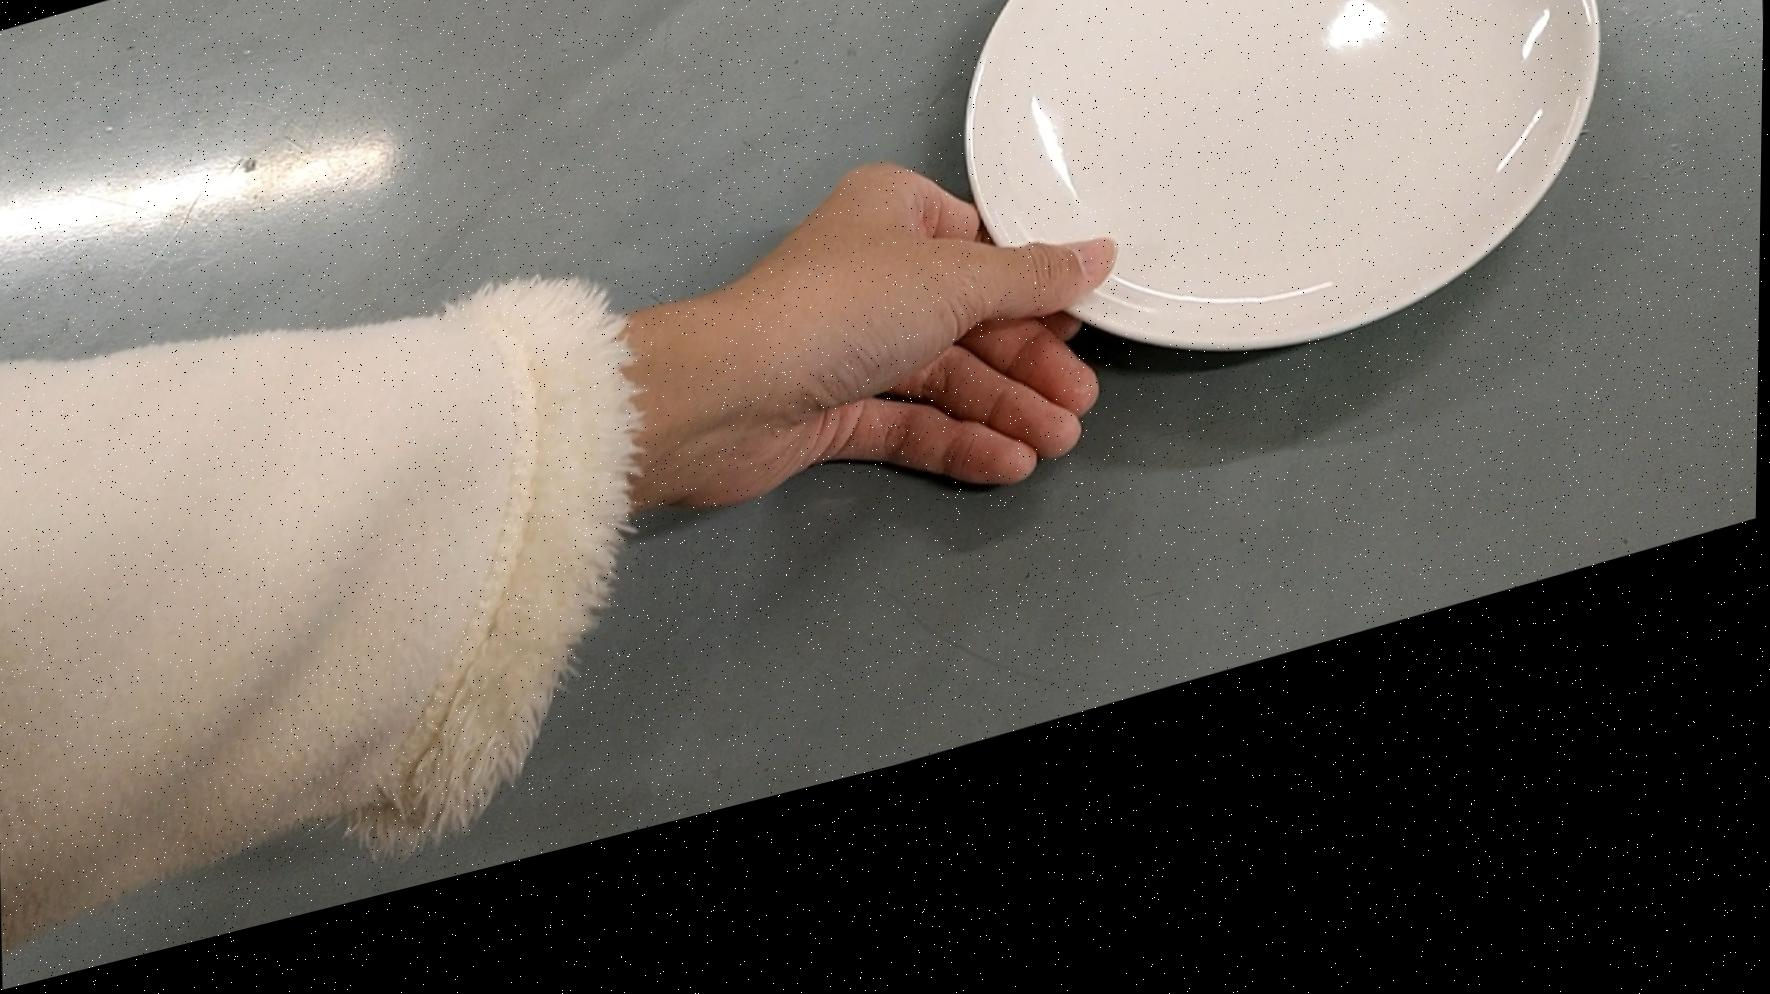plate: (949, 0, 1614, 496)
